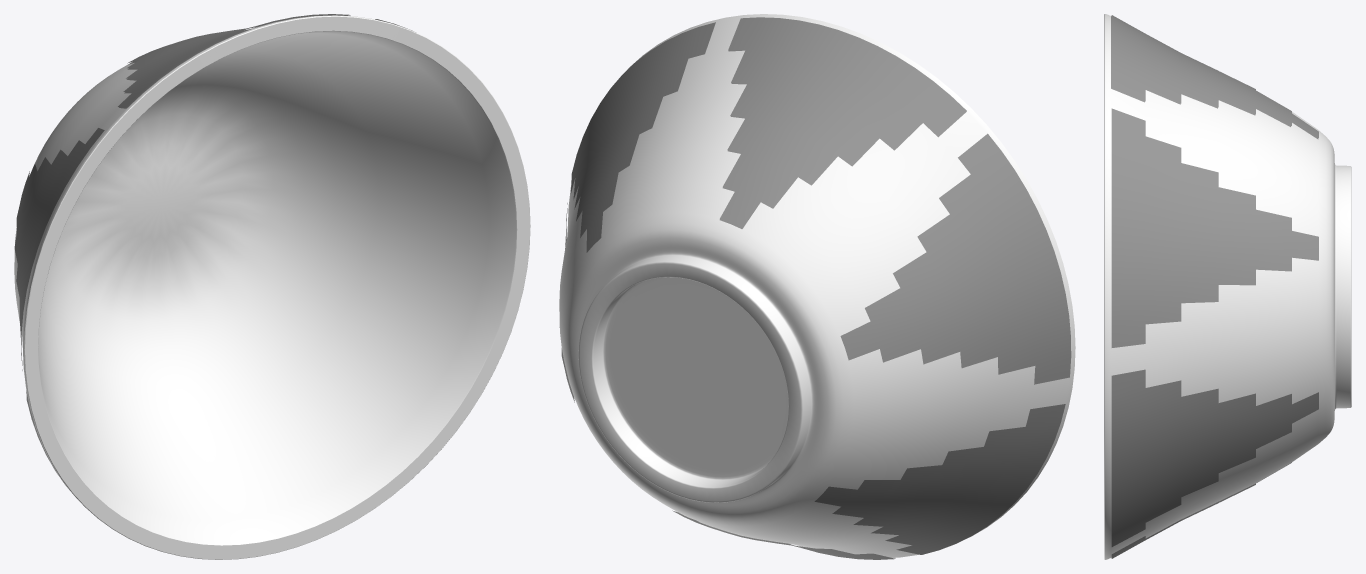
The picture shows the model from 3 angles, left to right: view 1: azimuth 30°, elevation 25°; view 2: azimuth 150°, elevation 25°; view 3: azimuth 270°, elevation 25°; orthographic projection. The views are drawn at different scales.
Visible parts, largest first — view 1: mk3, 对象006; view 2: mk3, 对象006; view 3: 对象006, mk3.
Boxes of the visible parts, left/top/right/bottom form: mk3: left=14, top=15, right=530, bottom=559; 对象006: left=14, top=14, right=415, bottom=499; mk3: left=559, top=14, right=1075, bottom=557; 对象006: left=559, top=17, right=1071, bottom=559; 对象006: left=1111, top=15, right=1318, bottom=558; mk3: left=1104, top=14, right=1351, bottom=559.
Size of the model in its own units: 76.62 by 76.62 by 34.68.
Materials: 2 (1 with a texture image).
